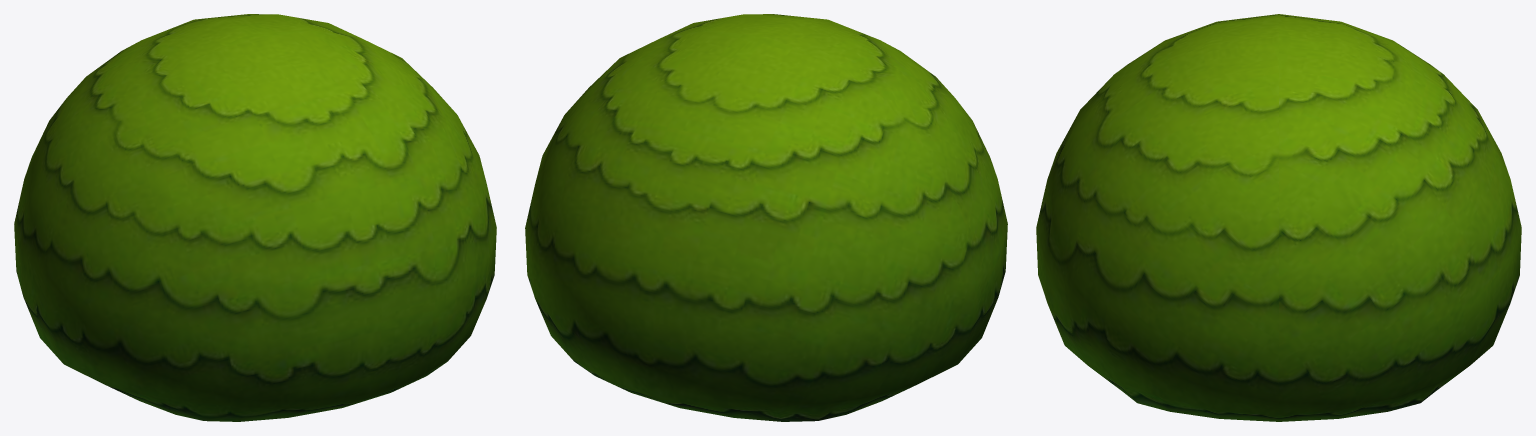
Rendered from bush.glb.
3 views of the same model, side by side, from view 1: azimuth 30°, elevation 25°; view 2: azimuth 150°, elevation 25°; view 3: azimuth 270°, elevation 25° (orthographic).
Size of the model in its own units: 1 by 0.7277 by 1.
Materials: 1 (1 with a texture image).
